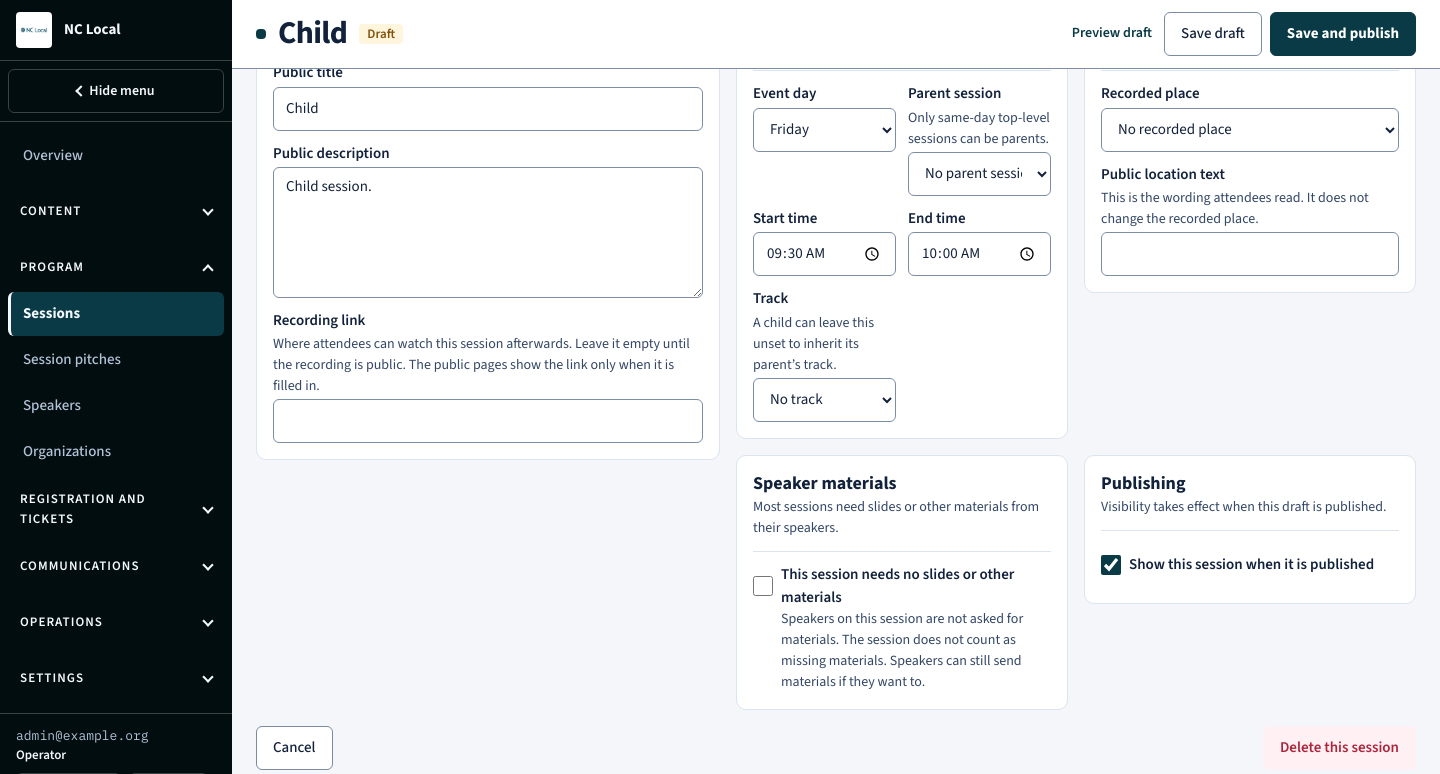
admin Sessions workspace › returns to the sessions list on Cancel
The image size is (1440, 774).
(page scrolled)
Check: the field showing "Child" is shown, box left=273, top=87, right=703, bottom=131
Click the button "Cancel": coordinates (294, 748) left=256, top=726, right=332, bottom=770
(page scrolled)
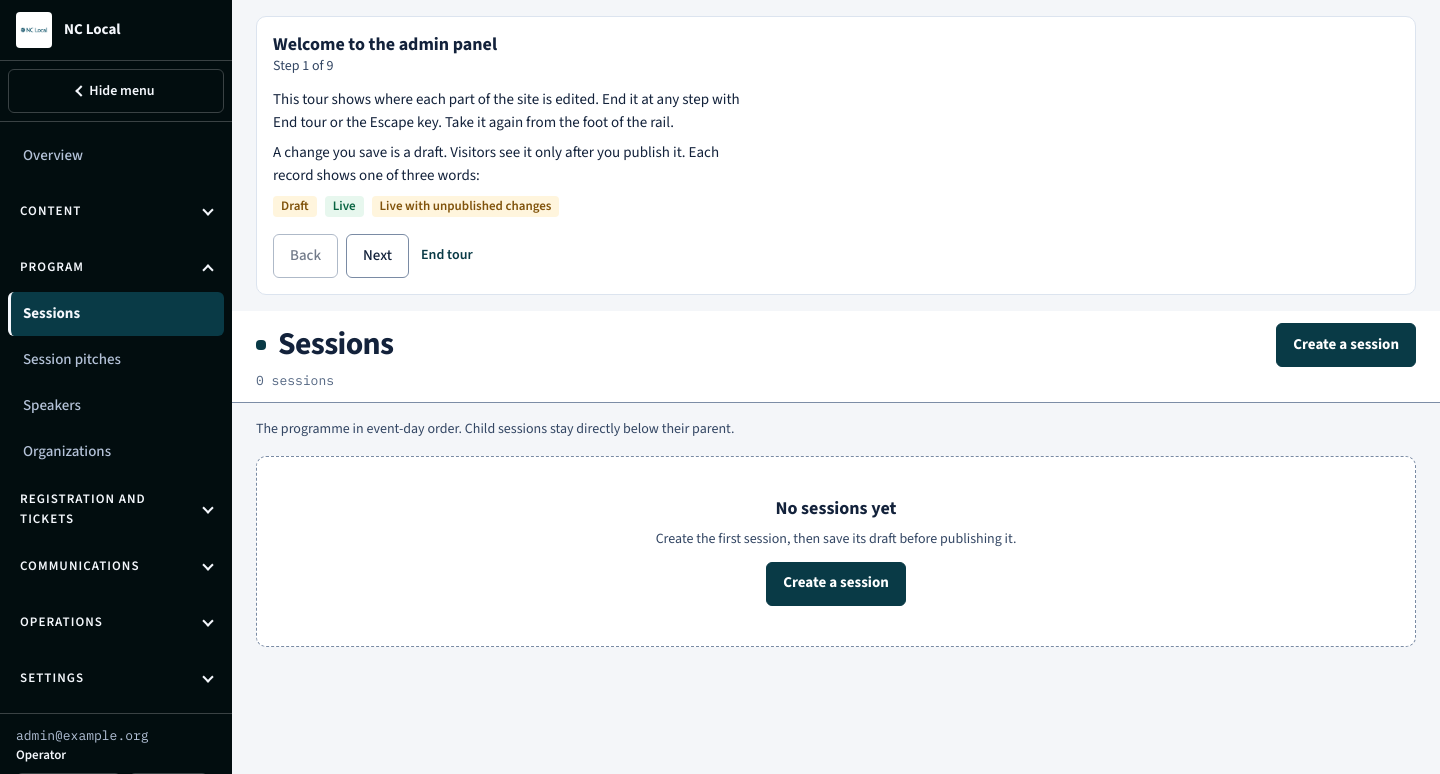
Check: the heading "Sessions" is shown, box left=278, top=326, right=394, bottom=364
